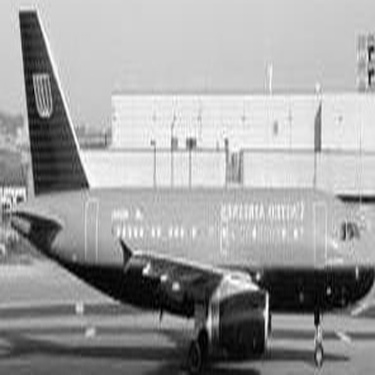airplane: (4, 2, 369, 372)
